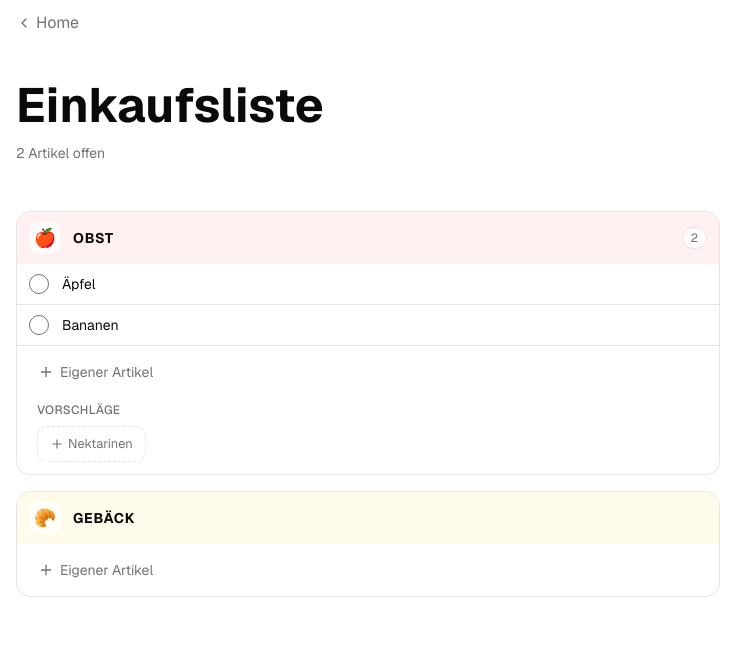
Scenario: adding an item › shows the new item right away, under its own category
Click the button "Eigener Artikel" below "Gebäck": (107, 570) [29,552,707,588]
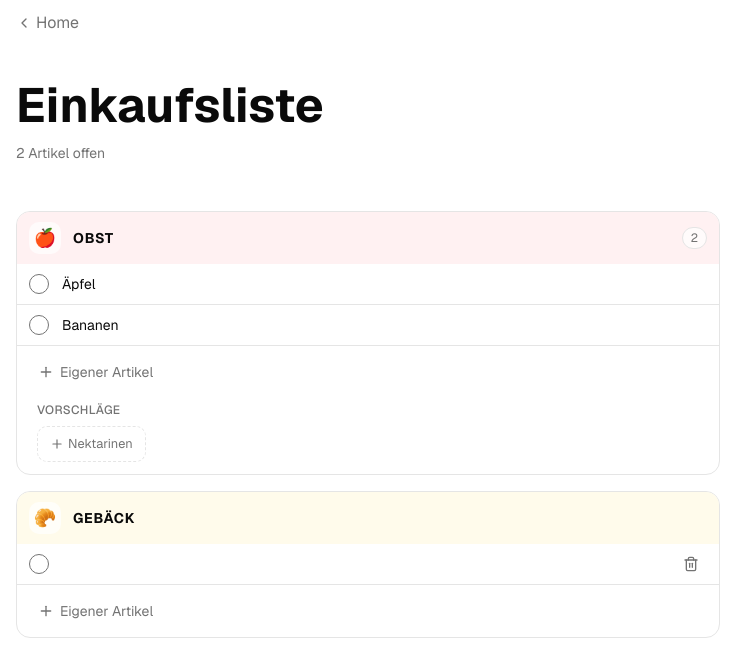
Type keys "Semmeln{Enter}"
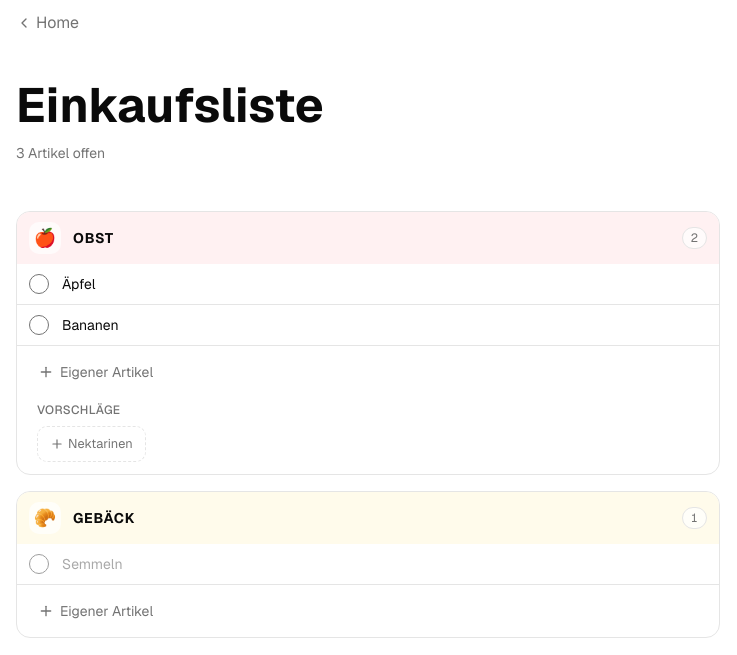
Now the button "Semmeln" is shown, box [61,553,663,575]
